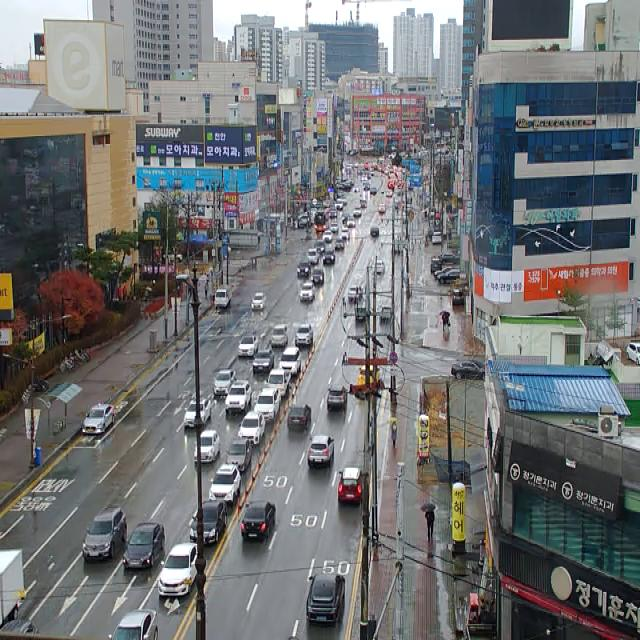Bus: (314, 212, 329, 232)
Car: (82, 507, 127, 561), (158, 543, 198, 596), (306, 574, 345, 626), (123, 523, 165, 568), (190, 500, 226, 545), (108, 609, 158, 640), (241, 500, 276, 540), (209, 464, 241, 503), (83, 402, 114, 434), (194, 430, 221, 463), (225, 380, 251, 414), (308, 435, 335, 467), (338, 468, 362, 504), (238, 412, 265, 444), (254, 388, 280, 421), (226, 438, 252, 471), (184, 399, 212, 429), (278, 346, 301, 374), (287, 404, 311, 430), (0, 618, 39, 634), (214, 369, 236, 396), (451, 362, 485, 379), (327, 384, 348, 410), (253, 350, 274, 372), (295, 324, 313, 348), (215, 285, 232, 309), (358, 365, 379, 384), (238, 336, 257, 357), (272, 324, 288, 348), (437, 269, 460, 284), (300, 283, 316, 302), (627, 343, 640, 364), (251, 293, 266, 311), (434, 267, 456, 279), (354, 301, 366, 321), (348, 285, 363, 300), (297, 262, 311, 278), (311, 269, 324, 284), (323, 250, 335, 266), (306, 250, 319, 264), (314, 240, 326, 255), (453, 290, 464, 306), (431, 259, 442, 273), (376, 260, 385, 275), (322, 230, 333, 242), (432, 232, 442, 245), (380, 306, 390, 319), (339, 229, 350, 240), (335, 239, 345, 251), (353, 206, 362, 218), (329, 206, 338, 218), (370, 226, 379, 237), (347, 217, 356, 228), (335, 200, 343, 211), (342, 213, 350, 224), (331, 222, 338, 234), (378, 204, 386, 214), (360, 200, 367, 208)
Truck: (0, 542, 29, 623), (267, 369, 290, 396)
